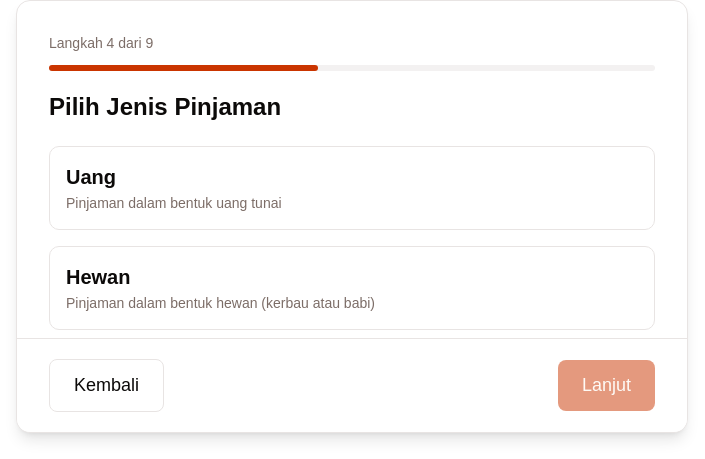
LoanStep4Type — Requirement 6.5 / 6.6 › selecting "Uang" marks it aria-selected and enables "Lanjut"
What coordinates should you click on to do the following:
click the option "Uang Pinjaman dalam bentuk uang tunai"
I would click on:
 (91, 177)
Its box is [49,146,655,230].
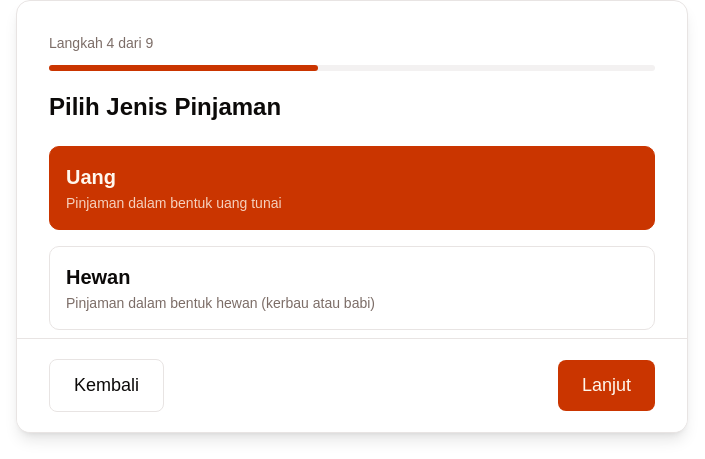
Result: the button "Lanjut" is enabled at [558,360,655,411]
